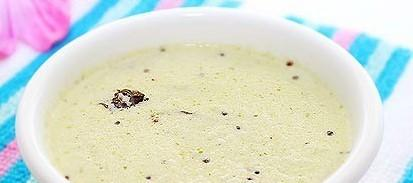CoconutChutney: (45, 44, 348, 183)
